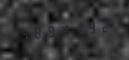eight: (30, 22, 42, 41)
four: (17, 24, 29, 43), (56, 20, 68, 39)
nine: (43, 21, 55, 40), (82, 18, 94, 37)
one: (69, 19, 81, 38)
two: (95, 17, 107, 36)
